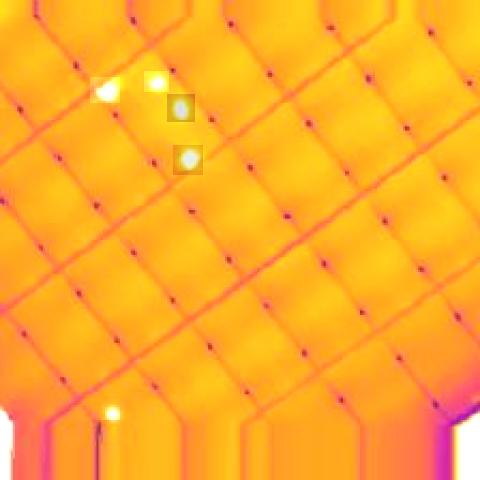fault: (174, 146, 204, 176), (167, 94, 195, 122), (90, 77, 120, 103), (144, 71, 169, 92), (101, 403, 120, 422)
